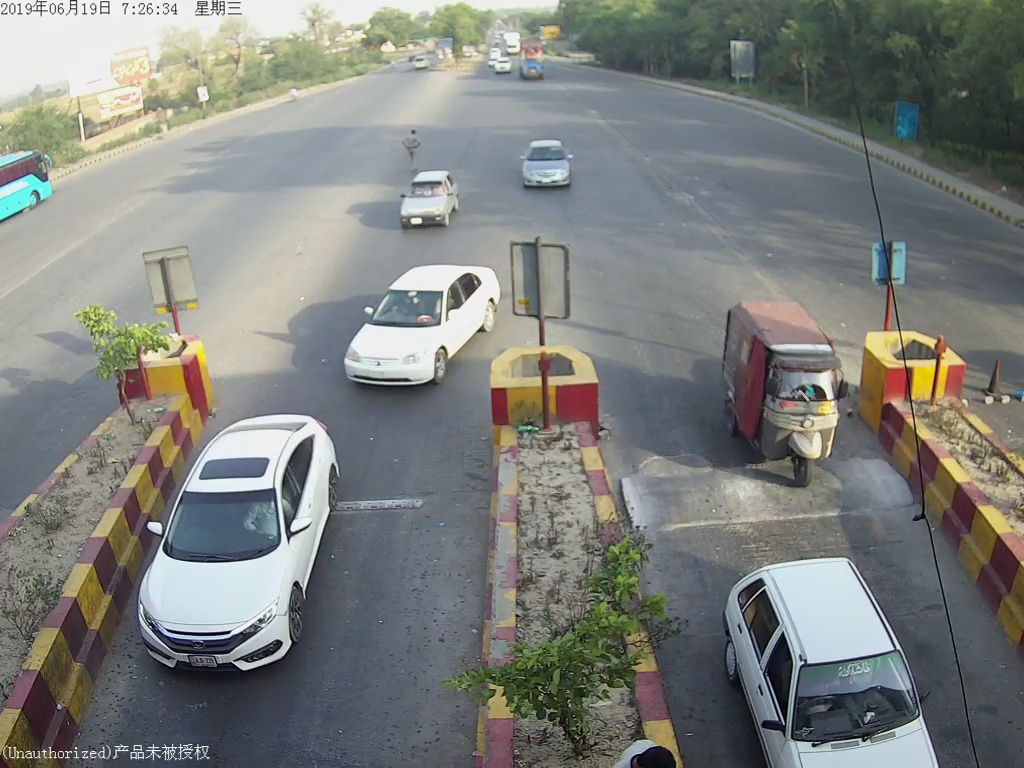Cat-1: (134, 416, 343, 676), (719, 543, 953, 768), (340, 257, 498, 402), (395, 172, 462, 226), (517, 131, 574, 190)
